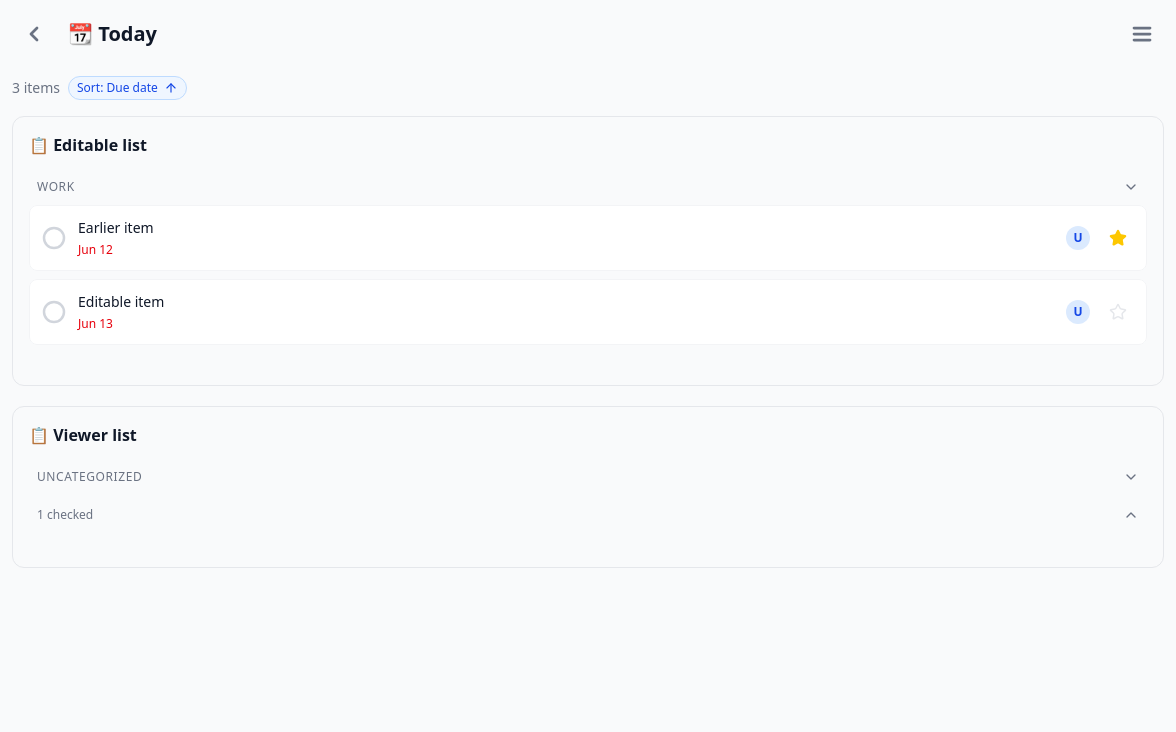
Today page › groups by source list, links to sources, and keeps viewer items read-only
Click the button "1 checked". click: (65, 514)
box: [29, 503, 1147, 527]
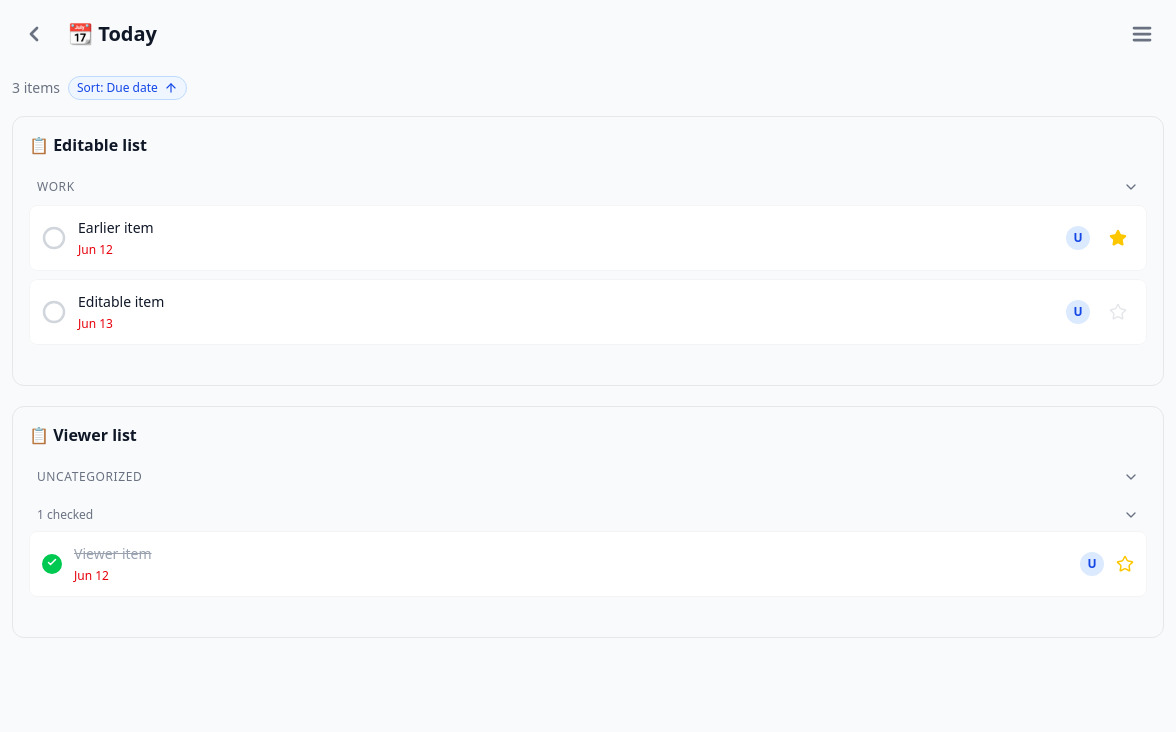
Expected: the text "Viewer item" is shown, [74, 544, 152, 564]
Expected: the element named "Completed" is shown, [42, 554, 62, 574]
